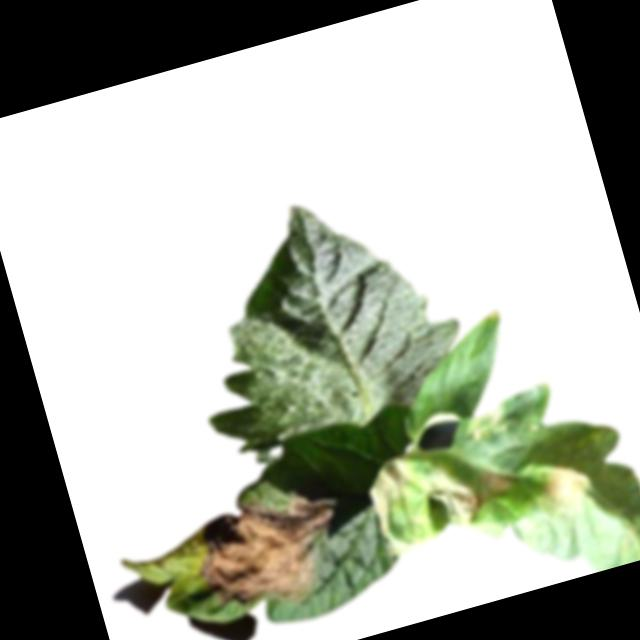Late_blight: (180, 477, 354, 624), (356, 452, 427, 544), (420, 455, 485, 529), (531, 453, 595, 515), (461, 402, 513, 444), (478, 462, 514, 498)
